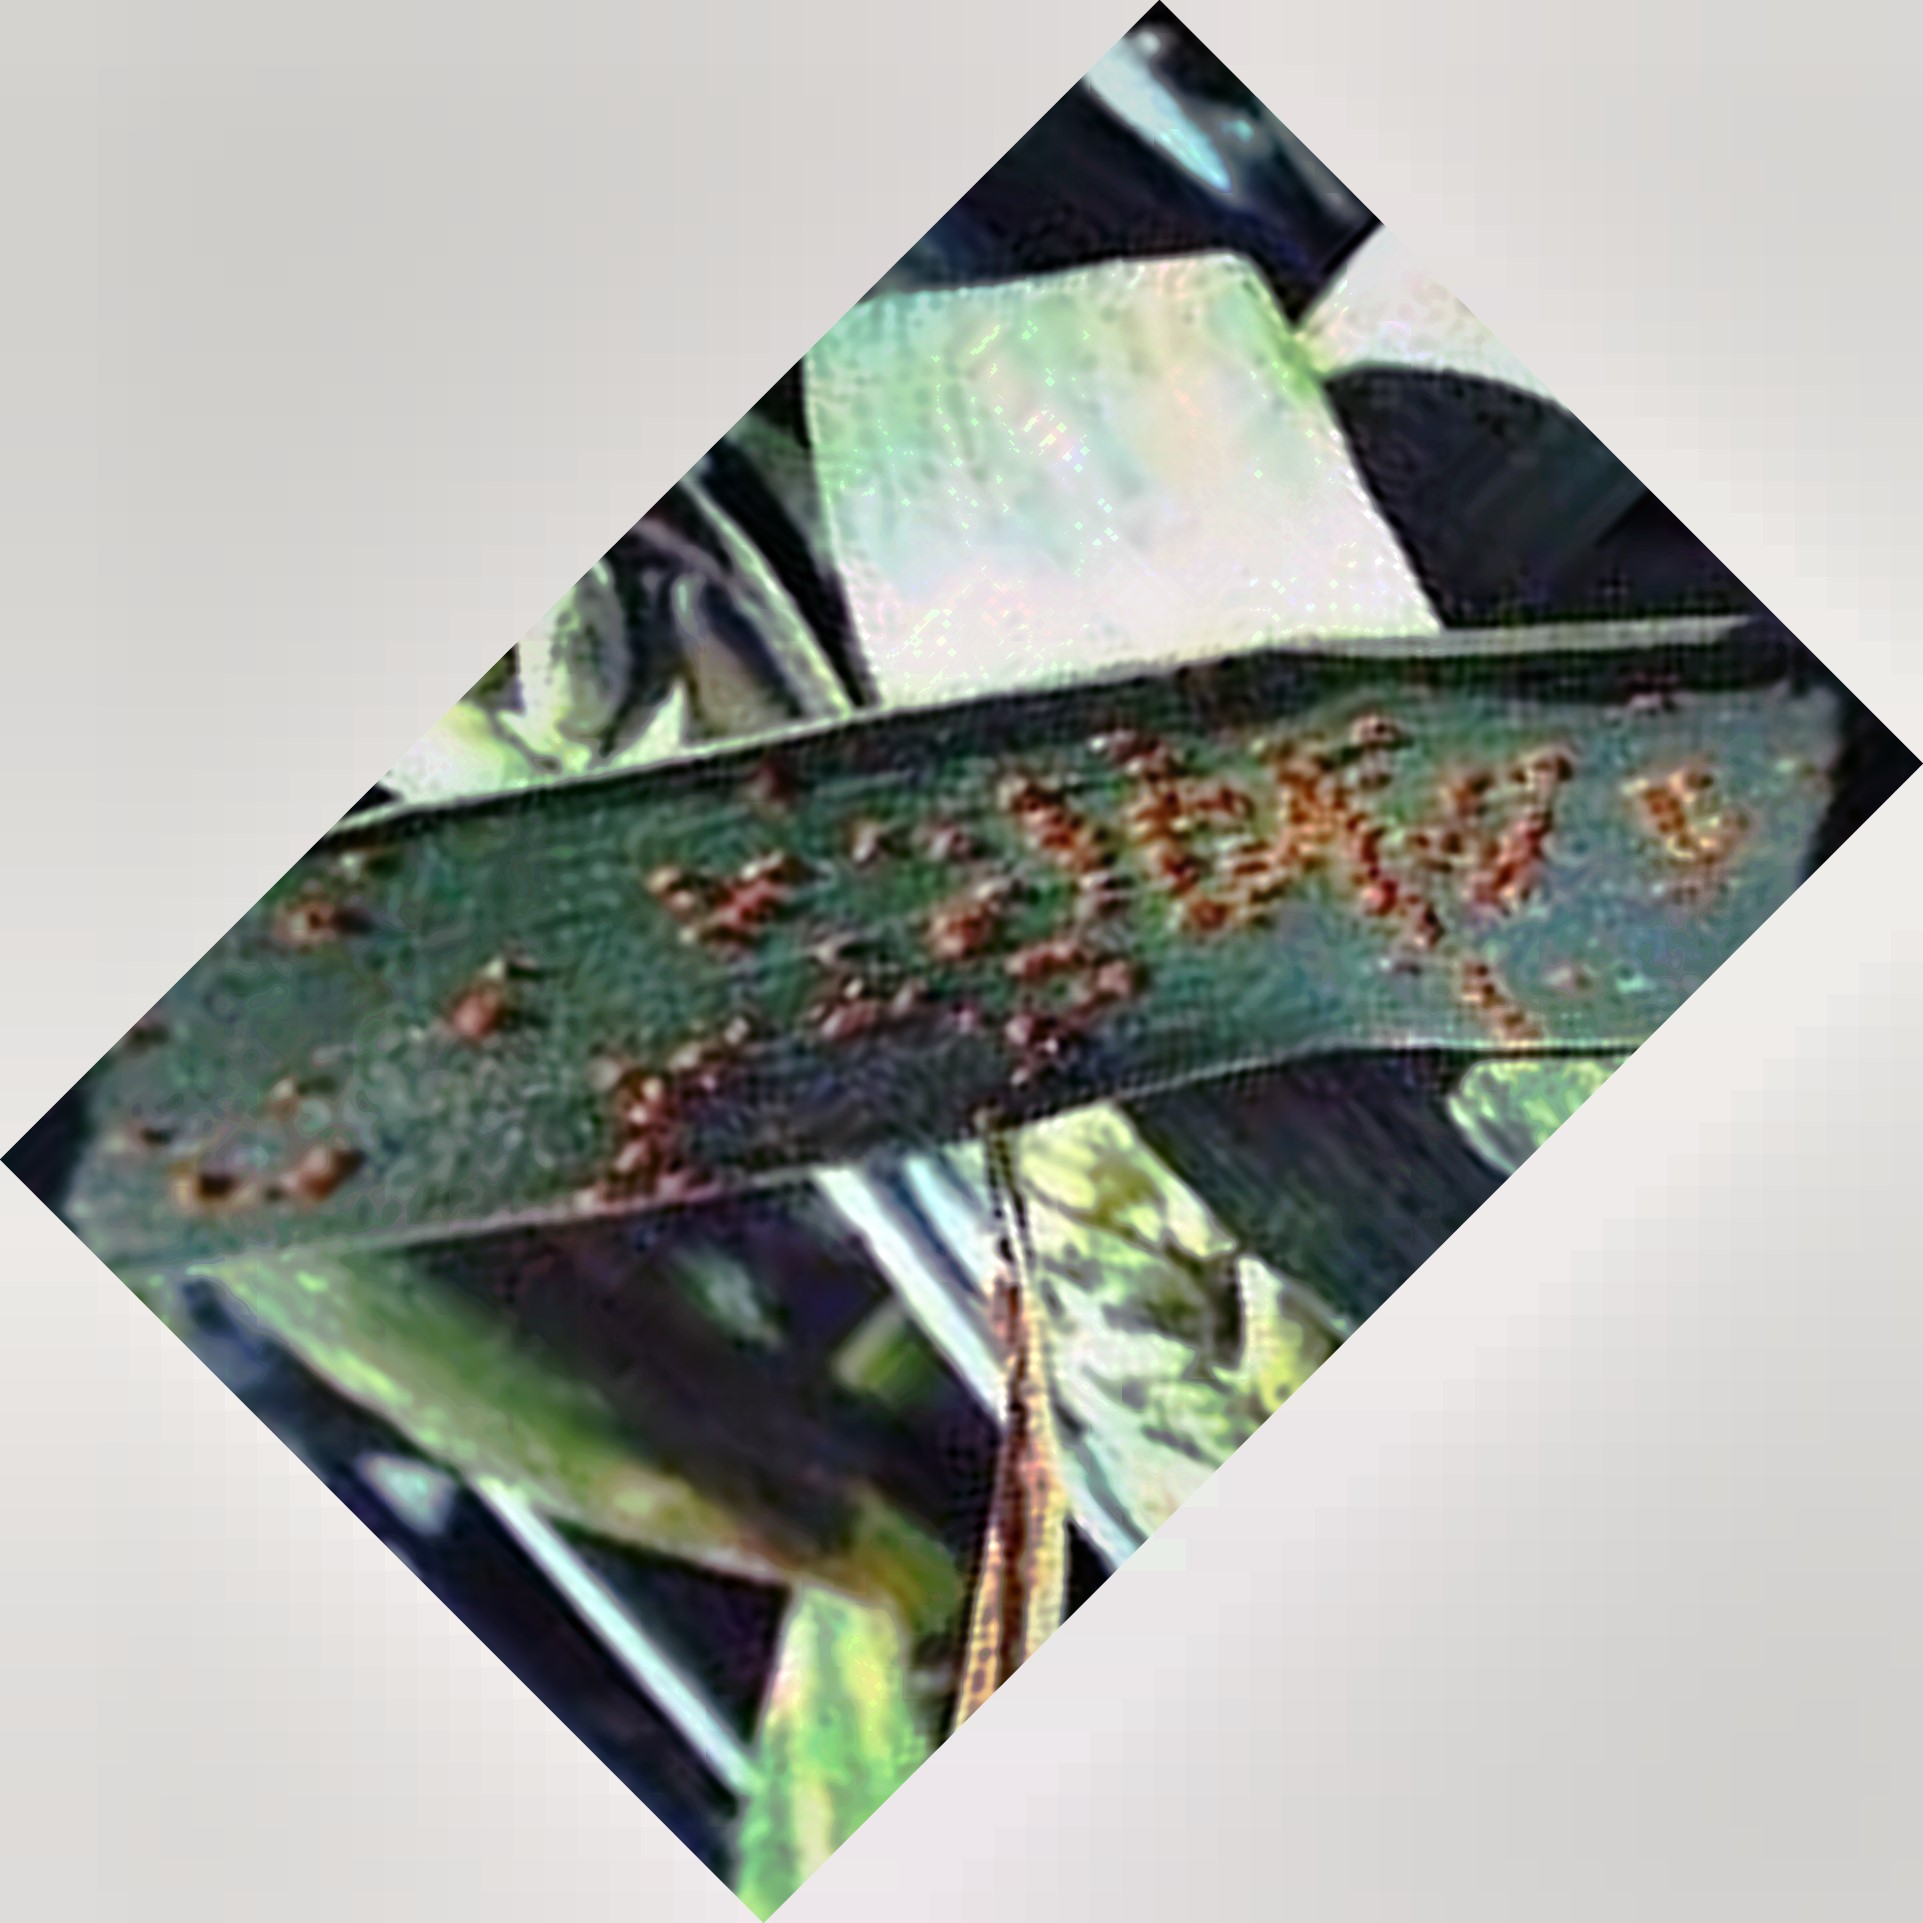Leaf Rust: (488, 585, 1708, 1162)
